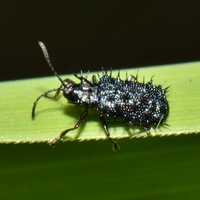insect: (32, 41, 168, 149)
